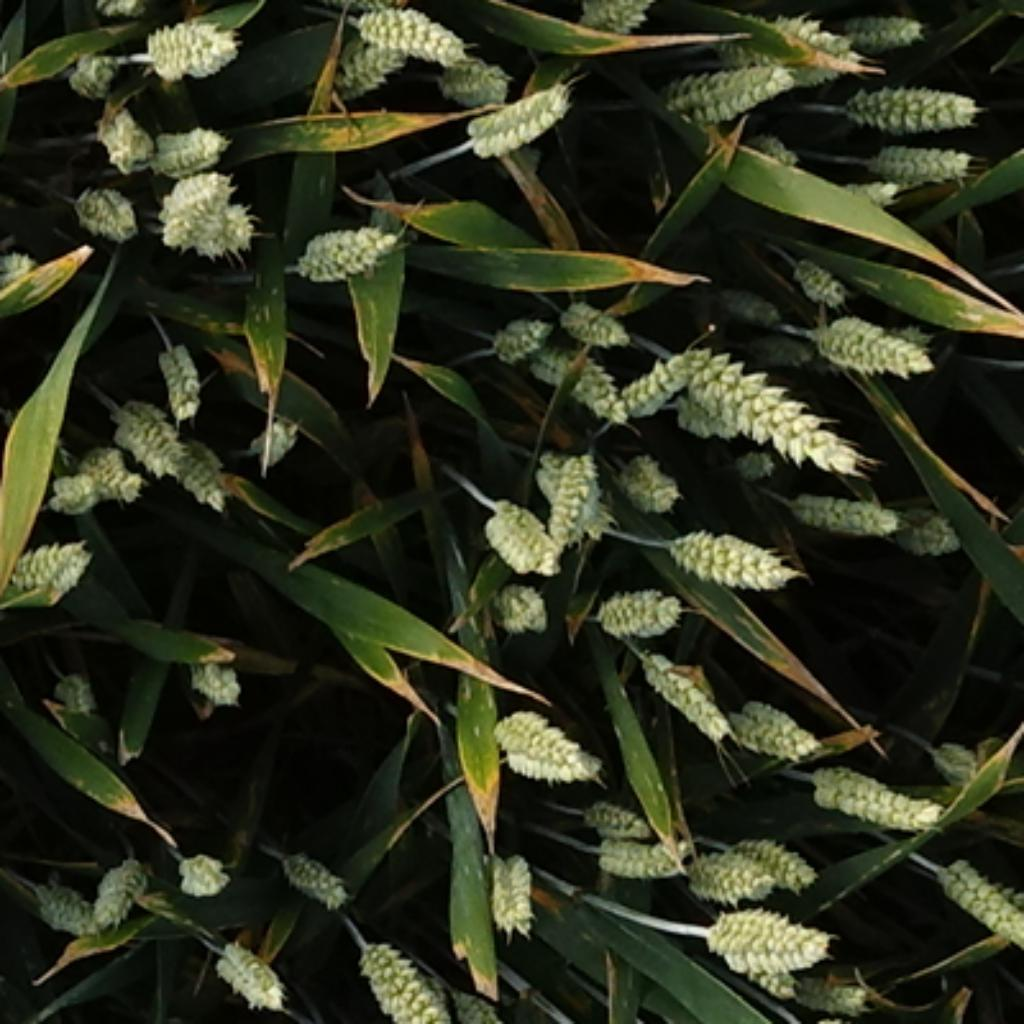0-0: (657, 325, 870, 472), (107, 391, 238, 501), (353, 919, 483, 1021), (739, 0, 890, 75), (696, 893, 834, 975), (652, 46, 801, 120), (803, 747, 942, 826), (481, 691, 601, 780), (660, 514, 793, 588), (337, 0, 473, 71), (801, 302, 936, 373), (153, 158, 256, 250), (629, 640, 732, 732), (463, 79, 581, 156), (834, 71, 985, 130), (934, 849, 1024, 947), (286, 212, 401, 284), (107, 391, 199, 481), (43, 432, 140, 509), (719, 683, 819, 757), (138, 17, 243, 86), (529, 348, 624, 424), (611, 340, 704, 417), (529, 453, 609, 540), (675, 832, 775, 901), (207, 924, 289, 1003), (311, 37, 409, 103), (478, 488, 558, 568), (0, 527, 94, 593), (783, 481, 903, 532), (588, 573, 686, 634), (857, 133, 977, 181), (473, 852, 537, 942), (583, 821, 688, 875), (878, 488, 960, 555), (268, 837, 350, 903), (545, 445, 601, 537), (87, 847, 156, 921), (609, 440, 680, 509), (727, 942, 801, 1008), (64, 171, 138, 235), (28, 870, 102, 934), (739, 839, 826, 893), (189, 199, 268, 258), (578, 783, 663, 837), (176, 640, 245, 704), (478, 565, 547, 629), (140, 117, 227, 166), (486, 302, 558, 360), (780, 960, 867, 1008), (151, 335, 207, 409), (837, 2, 926, 48), (432, 46, 509, 99), (555, 286, 629, 340), (97, 99, 156, 163), (783, 245, 847, 302), (64, 38, 125, 92), (171, 839, 230, 893), (253, 409, 304, 471), (834, 171, 916, 209), (48, 663, 104, 714), (744, 335, 819, 373), (926, 732, 985, 778), (678, 399, 739, 442), (573, 0, 673, 25), (716, 286, 780, 325), (442, 984, 501, 1024), (0, 243, 43, 296), (744, 130, 801, 166), (734, 448, 775, 481), (0, 729, 5, 791)
